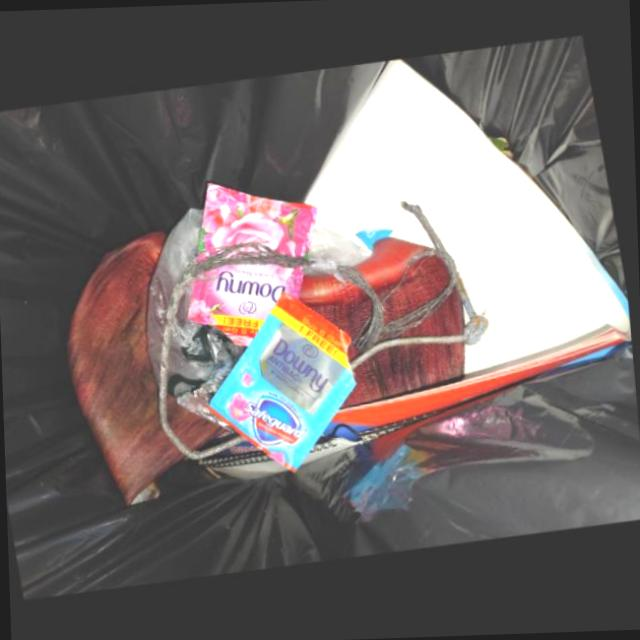carton: (307, 59, 634, 441)
goi_nhua_nho: (211, 293, 360, 473), (191, 183, 323, 347)
vo_rau_cu: (71, 232, 187, 508), (303, 238, 469, 409), (169, 395, 228, 452)
